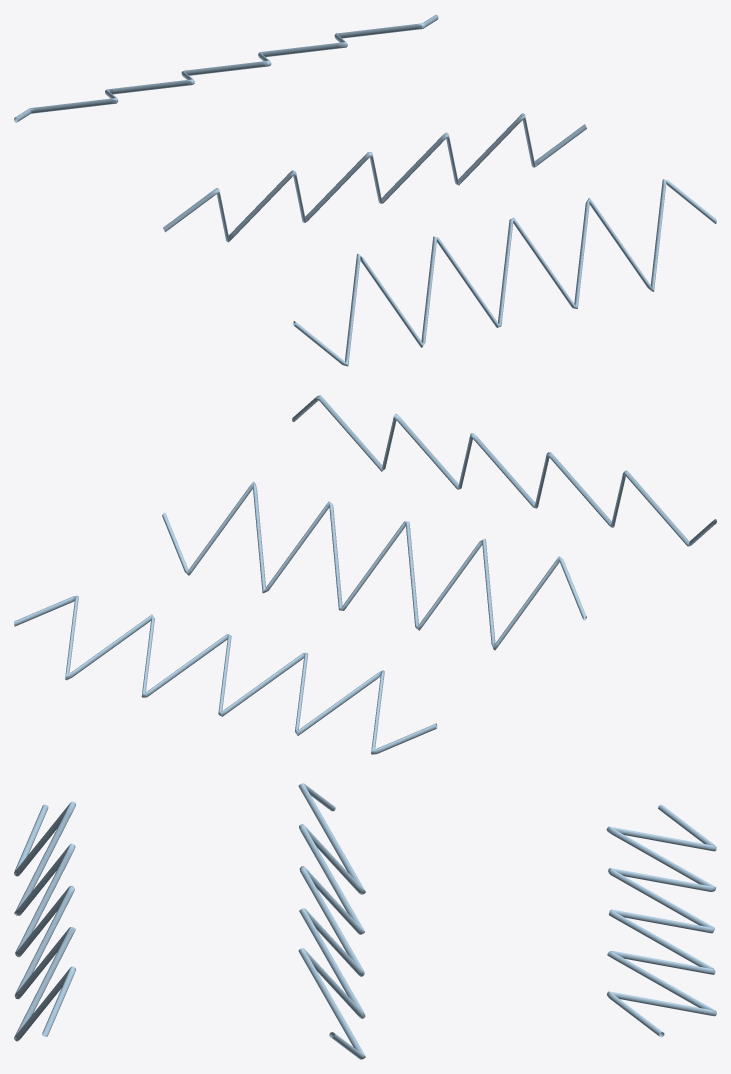
The model's file is jp_fil3.fbx.
3 views of the same model, one above another, from view 1: azimuth 30°, elevation 25°; view 2: azimuth 150°, elevation 25°; view 3: azimuth 270°, elevation 25° (orthographic). The views are drawn at different scales.
Parts seen in each view (by area): view 1: sweep2, sweep1, sweep3; view 2: sweep1, sweep3, sweep2; view 3: sweep3, sweep2, sweep1.
Part boxes in pixels (x1,y1,x2,y2): sweep2: [293, 179, 716, 366]; sweep1: [163, 113, 586, 242]; sweep3: [14, 14, 438, 122]; sweep1: [162, 481, 586, 650]; sweep3: [14, 595, 437, 754]; sweep2: [292, 395, 716, 546]; sweep3: [606, 804, 716, 1037]; sweep2: [14, 801, 75, 1041]; sweep1: [298, 783, 365, 1059].
Size of the model in its own units: 4.03 by 0.7822 by 5.26.
